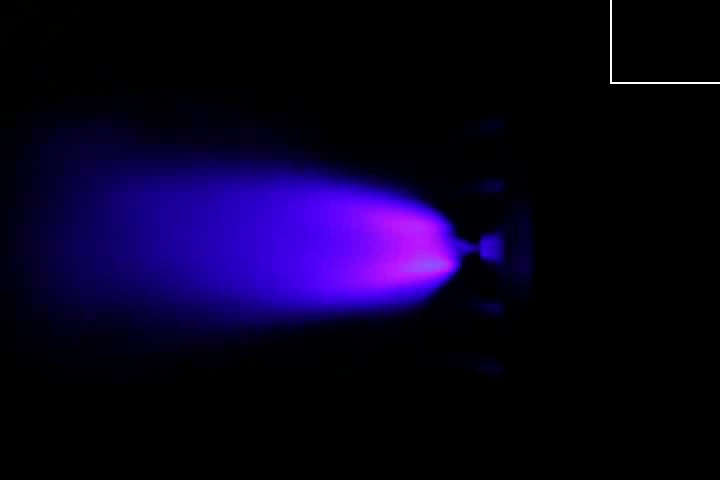buner cap: (480, 234, 507, 259)
unstable: (310, 175, 479, 313)
